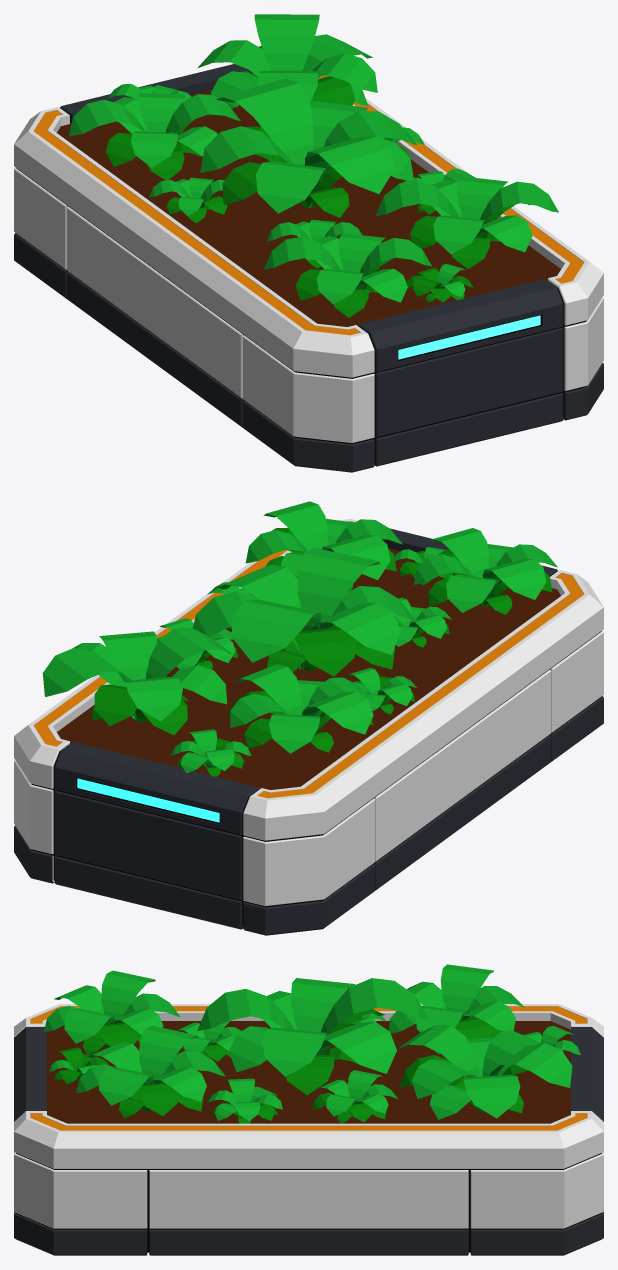
File: SM_Rectangular_Floor_Planter.fbx
3 views of the same model, one above another, from view 1: azimuth 30°, elevation 25°; view 2: azimuth 150°, elevation 25°; view 3: azimuth 270°, elevation 25° (orthographic). The views are drawn at different scales.
Visible parts, largest first — view 1: SM_Rectangular_Floor_Planter; view 2: SM_Rectangular_Floor_Planter; view 3: SM_Rectangular_Floor_Planter.
Part boxes in pixels (x1,y1,x2,y2): SM_Rectangular_Floor_Planter: (14, 14, 603, 472); SM_Rectangular_Floor_Planter: (14, 501, 603, 935); SM_Rectangular_Floor_Planter: (14, 964, 603, 1255).
Bounding box in the file's own units: 50.92 × 32.27 × 90.
